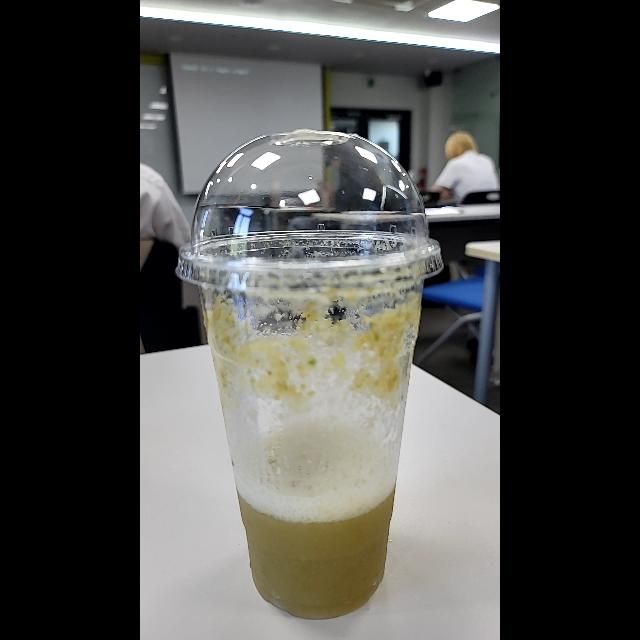plastic_cup: (174, 127, 446, 625)
plastic_cup_lid: (173, 130, 455, 302)
